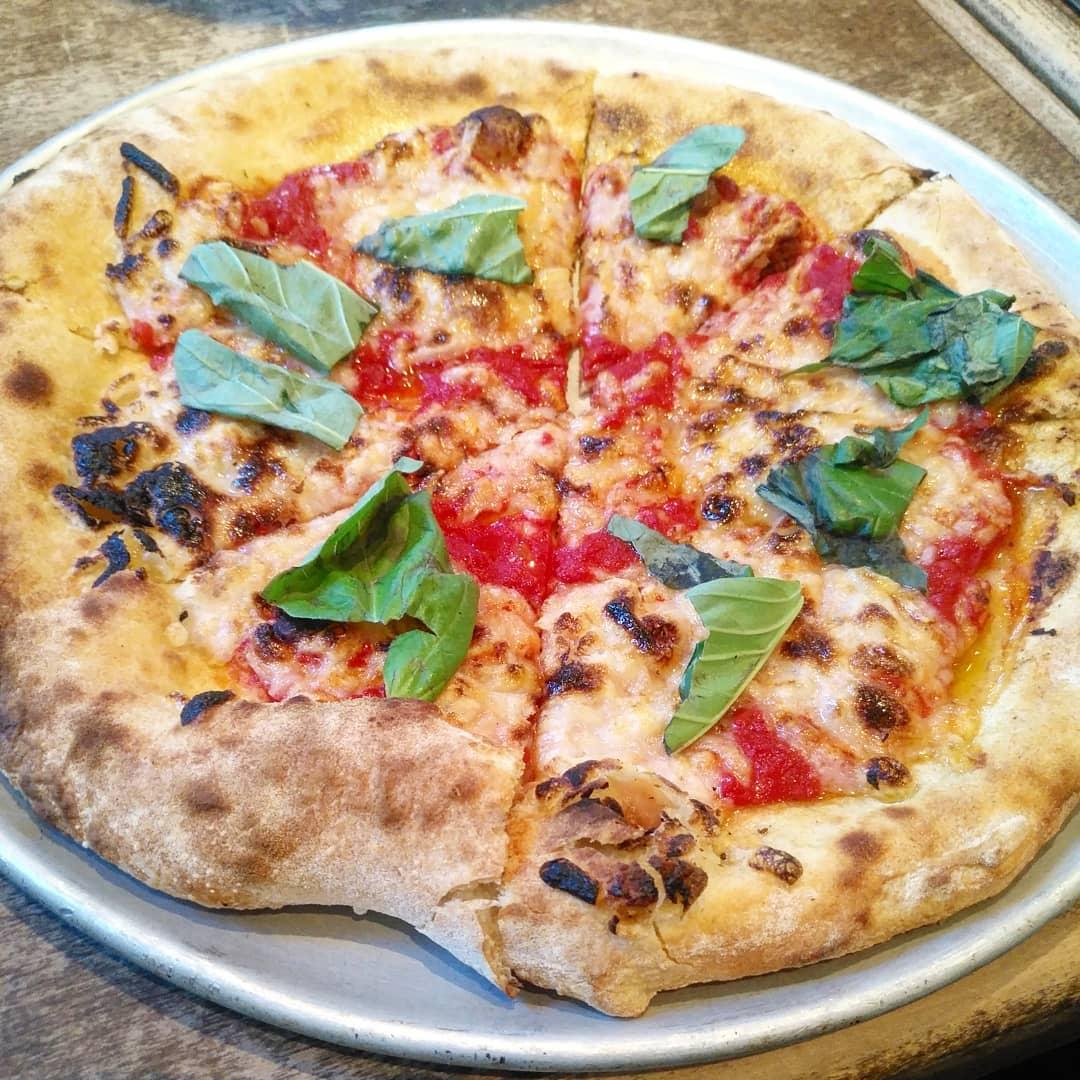Basil: (259, 461, 482, 709), (603, 515, 815, 764), (826, 215, 1040, 420), (749, 413, 940, 591), (181, 223, 378, 371), (357, 181, 537, 289), (619, 119, 749, 257)
Pizza: (0, 18, 1080, 1013)
